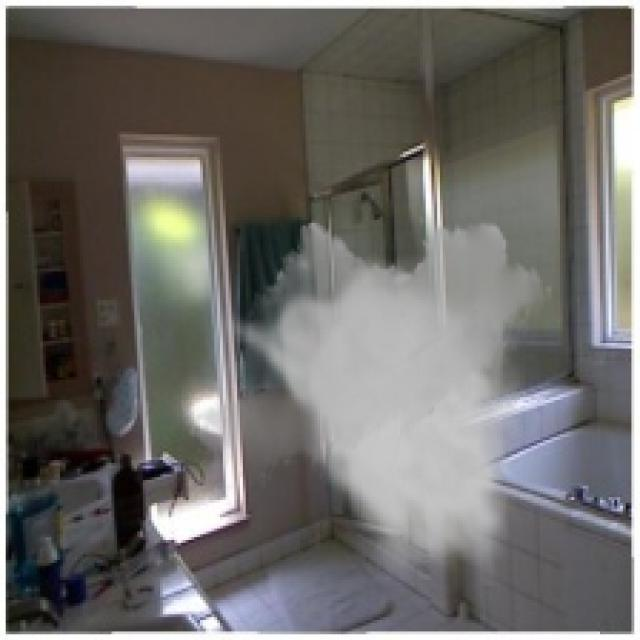Smoke: (186, 211, 554, 586)
